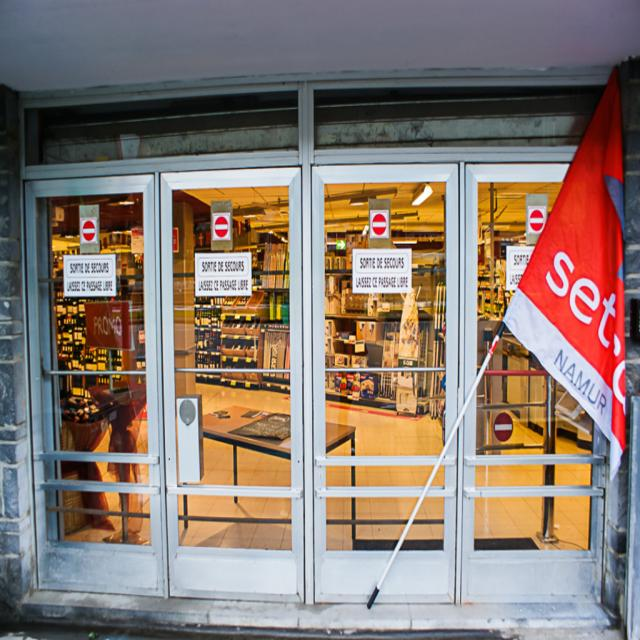door_local: (309, 162, 463, 604), (163, 168, 306, 602), (466, 160, 606, 602), (25, 170, 159, 601)
